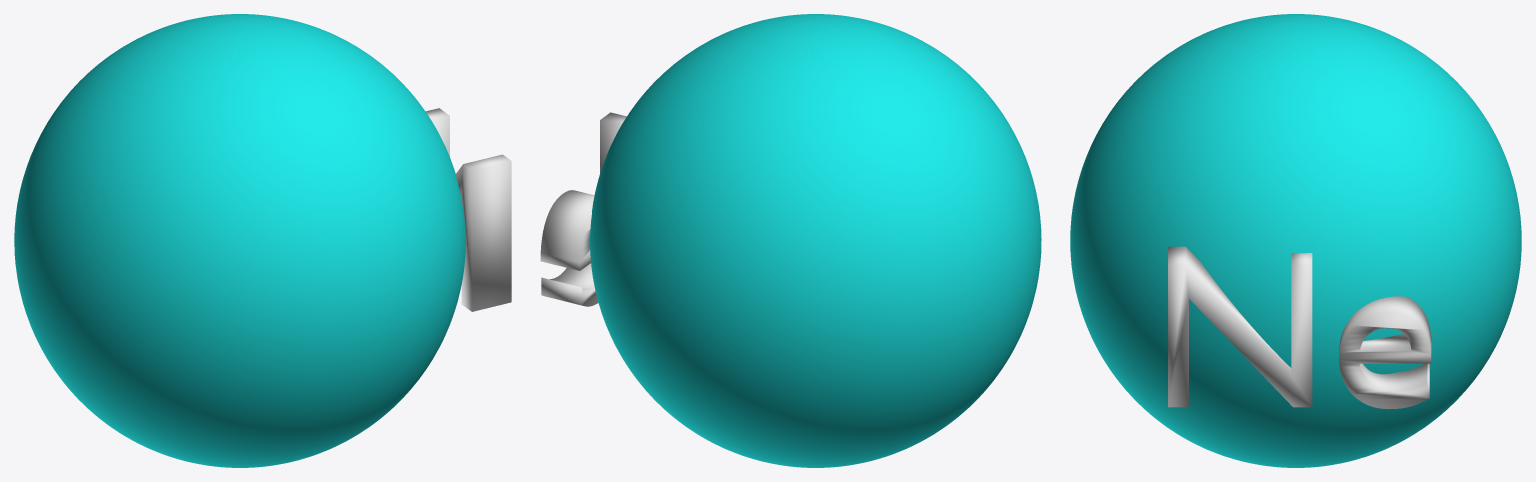
File: Neon.fbx
The picture shows the model from 3 angles, left to right: view 1: azimuth 30°, elevation 25°; view 2: azimuth 150°, elevation 25°; view 3: azimuth 270°, elevation 25°; orthographic projection.
Visible parts, largest first — view 1: Sphere, Text; view 2: Sphere, Text; view 3: Sphere, Text.
Part boxes in pixels (x1=…): Sphere: x1=14, y1=14, x2=465, y2=467; Text: x1=425, y1=108, x2=511, y2=311; Sphere: x1=590, y1=14, x2=1041, y2=467; Text: x1=540, y1=112, x2=626, y2=306; Sphere: x1=1070, y1=14, x2=1521, y2=467; Text: x1=1168, y1=246, x2=1431, y2=409.
Size of the model in its own units: 203 by 200 by 197.
